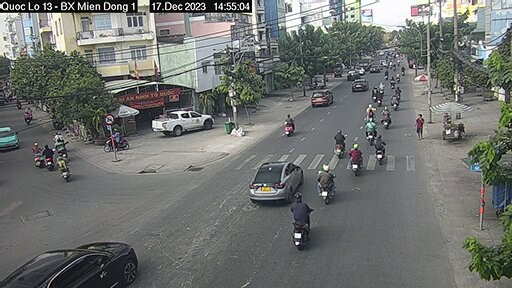car: (246, 159, 302, 203), (144, 112, 221, 140), (311, 87, 336, 110), (351, 80, 369, 93)
motorbike: (285, 191, 309, 247), (315, 163, 338, 201), (334, 130, 350, 163), (346, 145, 365, 171)
